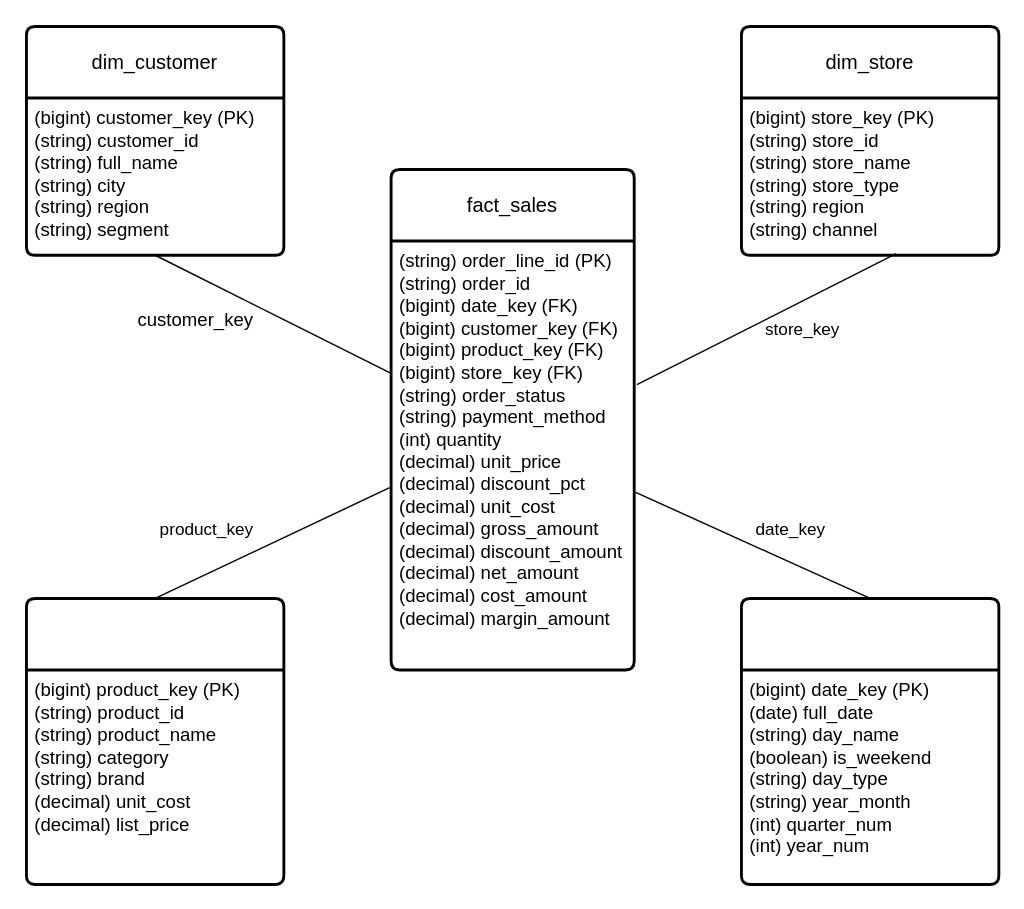
Image size: 1024x909. Some labels were removed from this diagram. Here are the shapes that lost their labels. From the top down, the box of each, then its label:
(24, 596, 285, 885): dim_product
(739, 596, 1000, 885): dim_date
